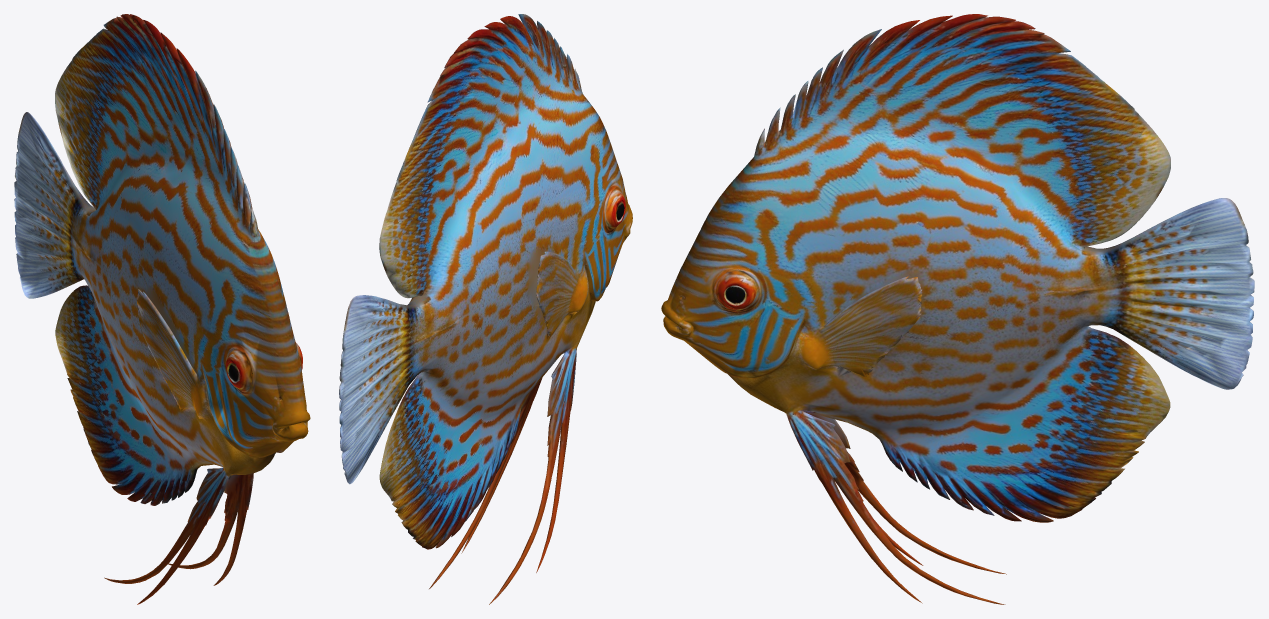
File: discus-0.glb
3 renders of one model, left to right at view 1: azimuth 30°, elevation 25°; view 2: azimuth 150°, elevation 25°; view 3: azimuth 270°, elevation 25°, orthographic. The views are drawn at different scales.
Parts seen in each view (by area): view 1: Body; view 2: Body; view 3: Body.
Part boxes in pixels (x1,y1,x2,y2): Body: (14, 14, 310, 604); Body: (339, 14, 632, 604); Body: (661, 14, 1254, 604).
Bounding box in the file's own units: 0.1193 × 0.7876 × 0.7355.
Materials: 1 (1 with a texture image).
